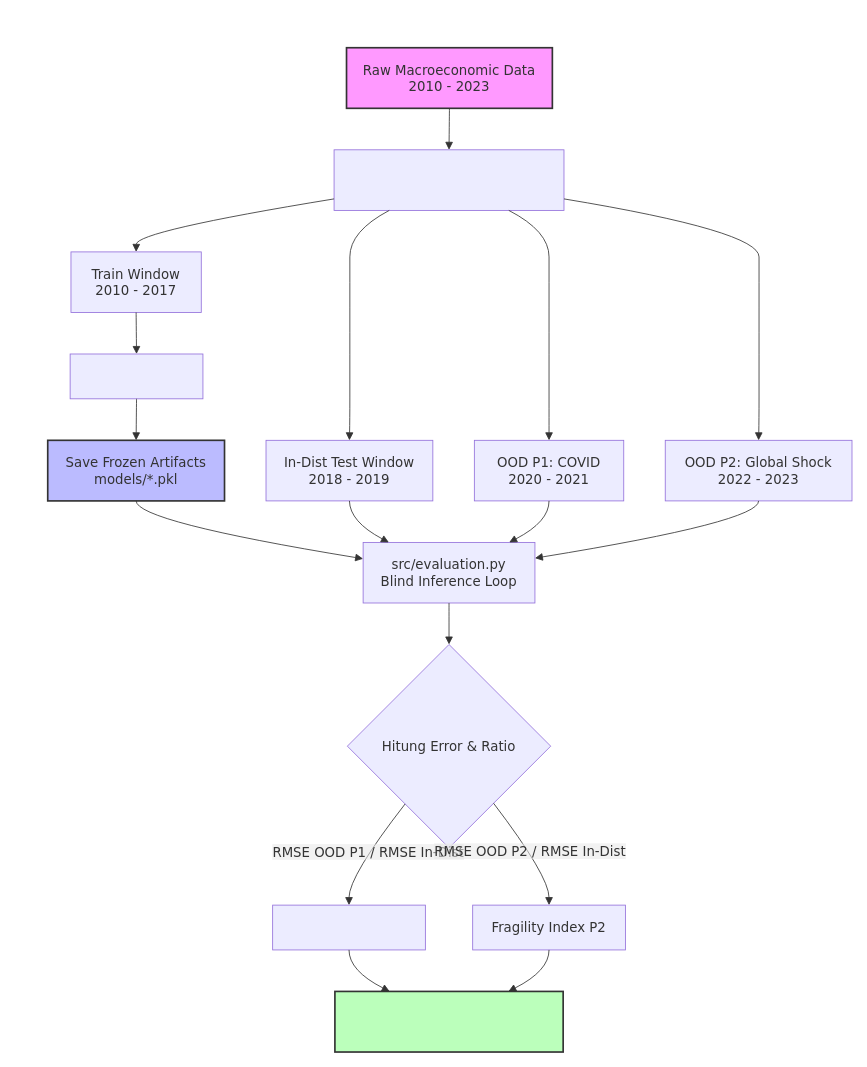
This 867x1067 diagram has some shape labels left out. The shapes that lost their labels are listed below. From the top down, each one's box as (x1, y1, x2, y2) in pixels, then its label:
(333, 149, 564, 210): src/preprocessing.py Log-Diff Stationarity & Lagging
(69, 353, 203, 399): src/training.py
(272, 904, 425, 950): Fragility Index P1
(334, 990, 564, 1052): Matriks Luaran 2x2x2 output/metrics/final_matrix.csv
